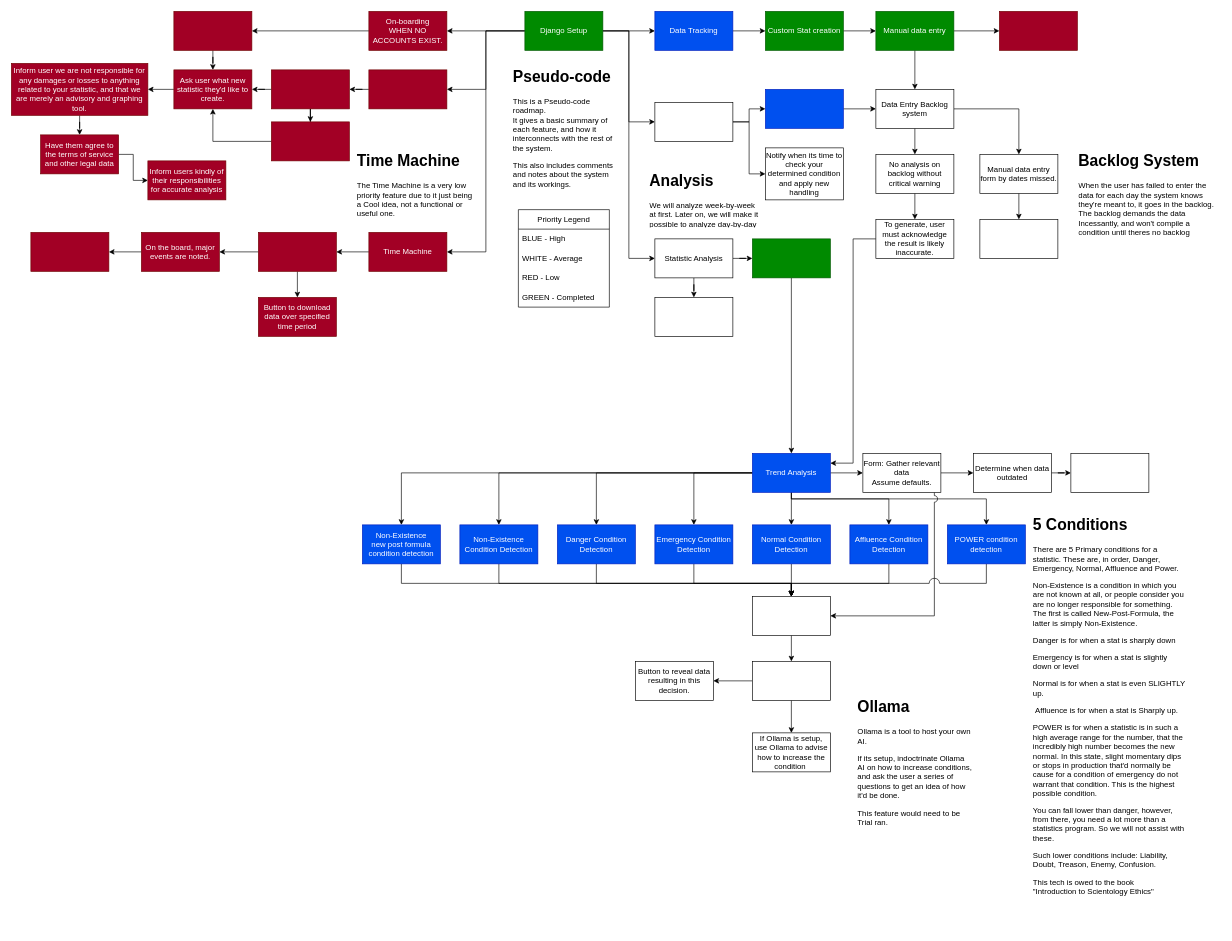
The diagram is 1232 pixels wide and 941 high, and some of its shapes have lost their labels. Here are the shapes that lost their labels. From the top down, the centre of each, then its label:
point (212, 30): User creates their ADMIN Account
point (1038, 30): Data entry from APIs (very low priority)
point (310, 89): Ask user if theres a pre-existing statistic they want to work with
point (407, 89): On-boarding for regular users
point (804, 108): Notify when its time to enter the data for the statistic
point (310, 141): Skip to next if no stats exist or if select "Create new stat"
point (693, 121): Notifications
point (69, 251): Ability to preview what'd happen if ONE variable was changed in the analysis
point (297, 251): Menu to analyze statistics over a large period of time
point (791, 258): Data Graphing on Website
point (1018, 238): Allow to enter as "Unknown" for the day. Enters as 0
point (693, 316): Button to download this weeks data as CSV
point (1109, 472): Prompt incessantly to refresh to prevent inaccuracy.
point (791, 615): Modify detection according to data available.
point (791, 680): Advise correct handling to increase condition to next
